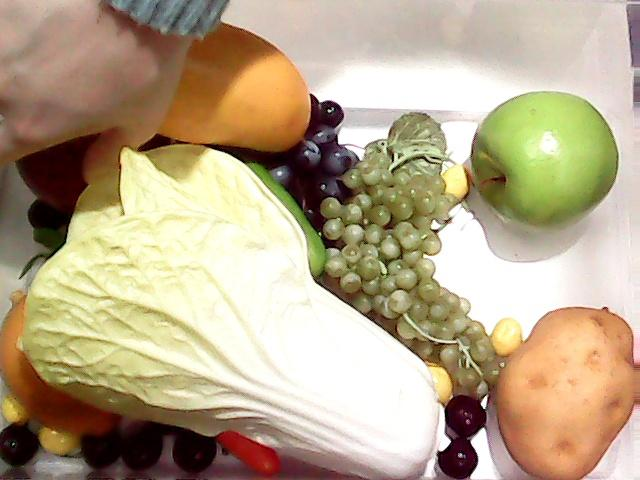apple: (468, 84, 622, 240), (17, 110, 164, 208)
carrot: (219, 414, 281, 478)
grape: (312, 110, 490, 390), (247, 86, 361, 246)
lemon: (1, 294, 115, 437)
mango: (153, 14, 314, 154)
napa cabbage: (20, 135, 441, 480)
pepper: (153, 110, 354, 284)
potato: (490, 303, 640, 480)
